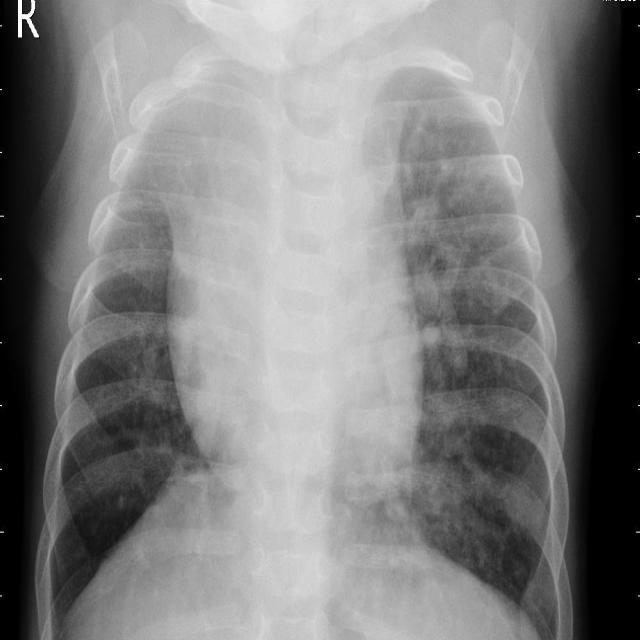high-pneumonia: (133, 61, 230, 201)
low-pneumonia: (396, 78, 506, 376), (412, 392, 510, 547)
